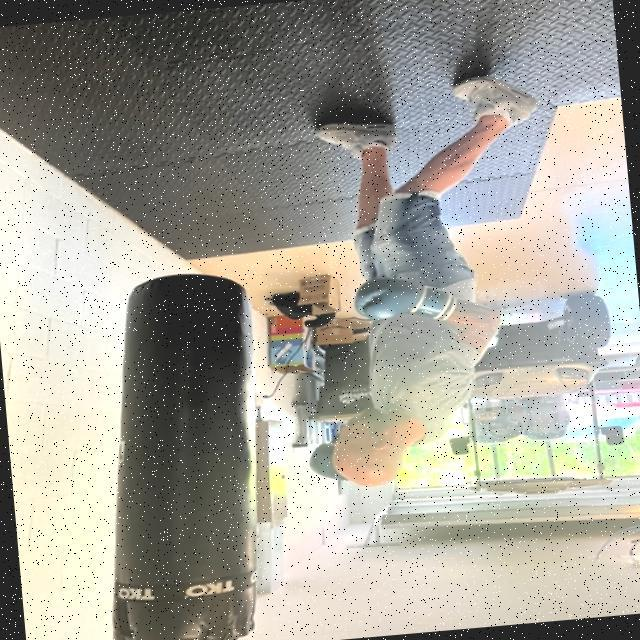bag: (80, 259, 287, 640)
uppercut: (322, 250, 515, 390)
